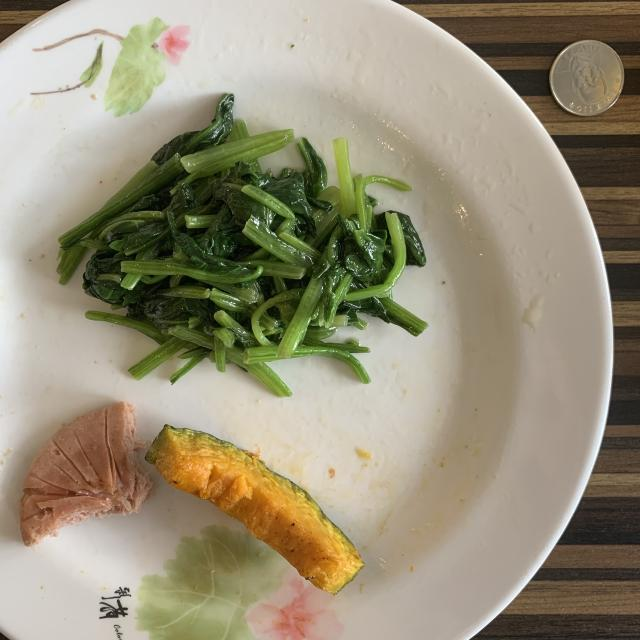Spam: (20, 401, 152, 546)
coin: (550, 40, 624, 116)
mustard greens: (58, 94, 428, 396)
pumpkin: (146, 425, 364, 594)
